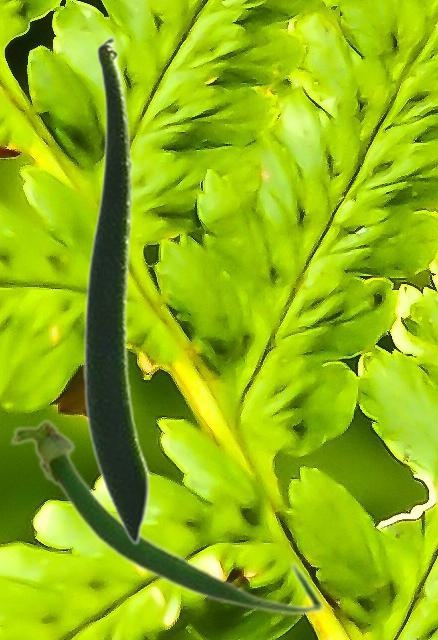french_bean: (8, 416, 325, 616), (82, 35, 150, 545)
